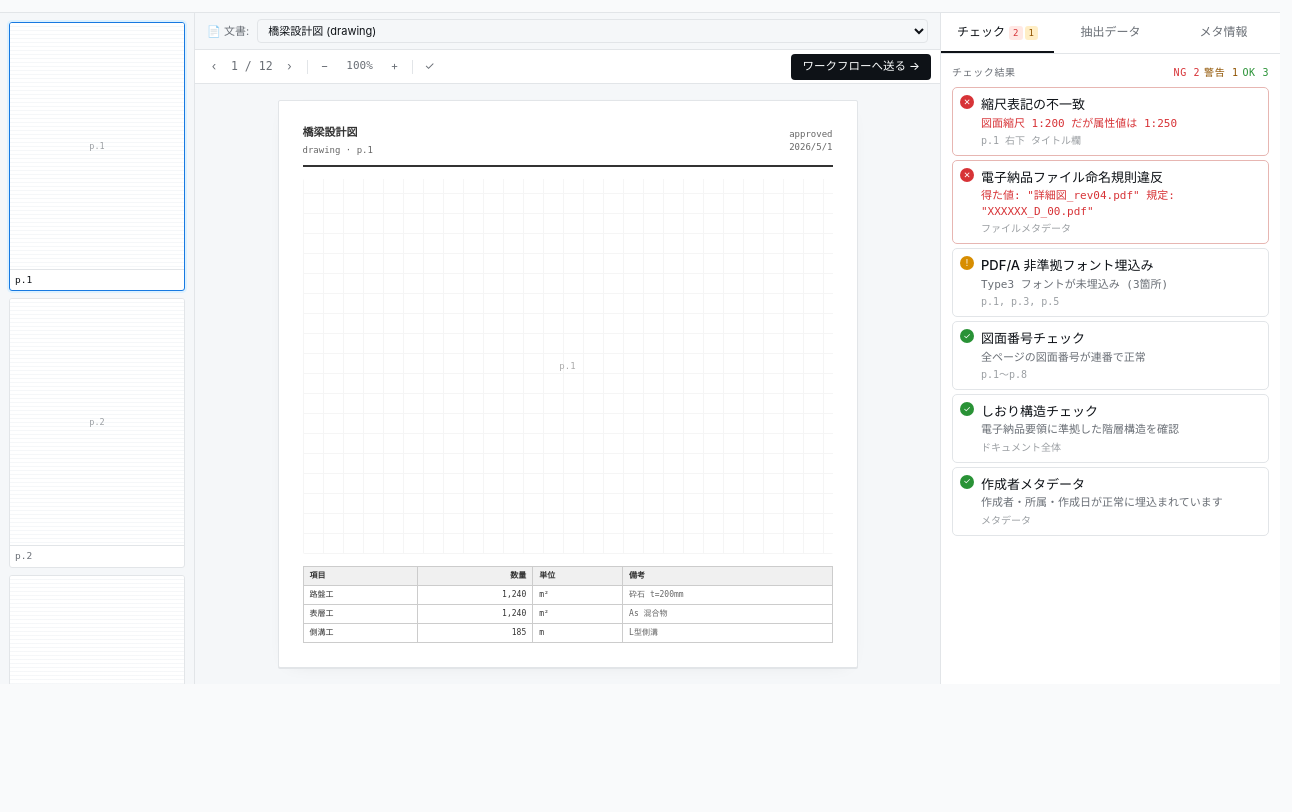
Scenario: ViewerView › shows extract button in extracted tab
expect the dropdown is shown: met, box [257,19,928,43]
Click the tab "抽出データ" at {"x": 1110, "y": 33}, box [1054,13,1167,53]
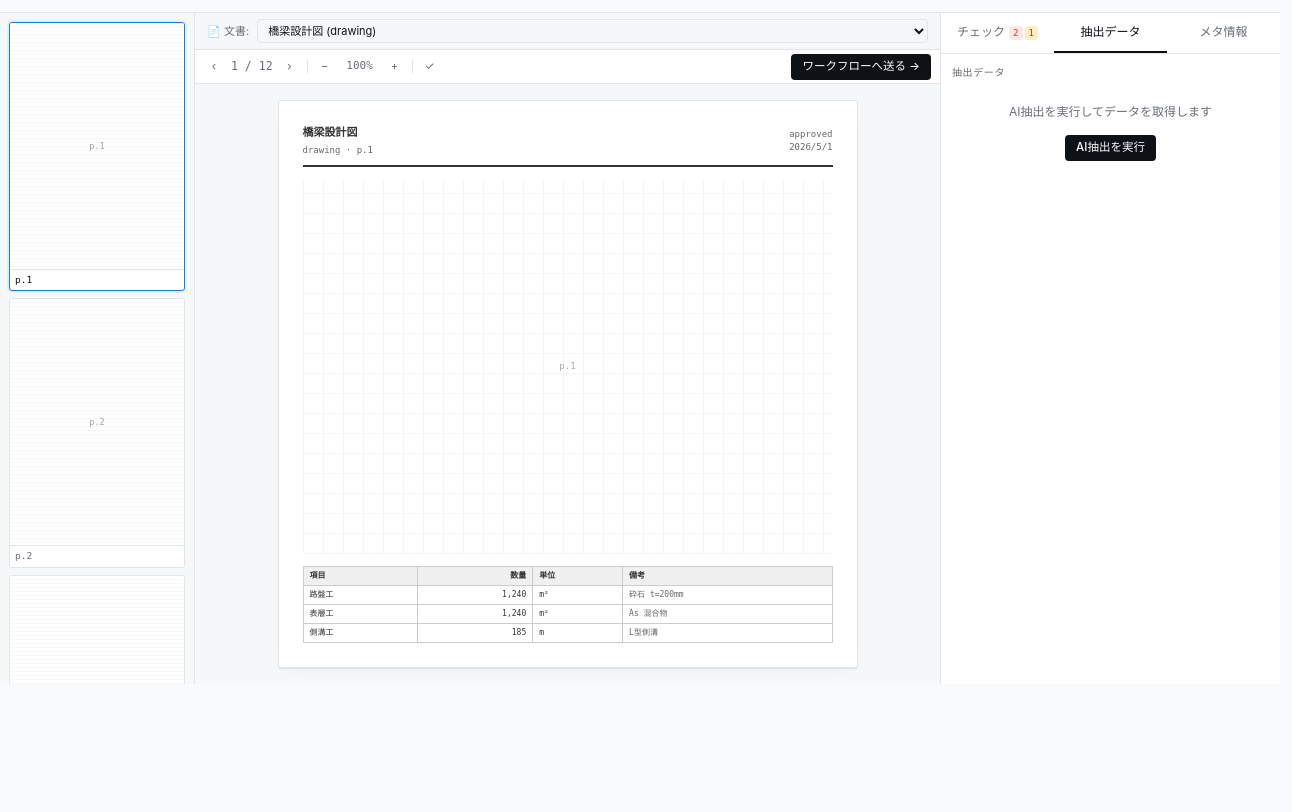
expect the button with test id "extract-btn" is shown: met, box [1065,135,1156,161]
